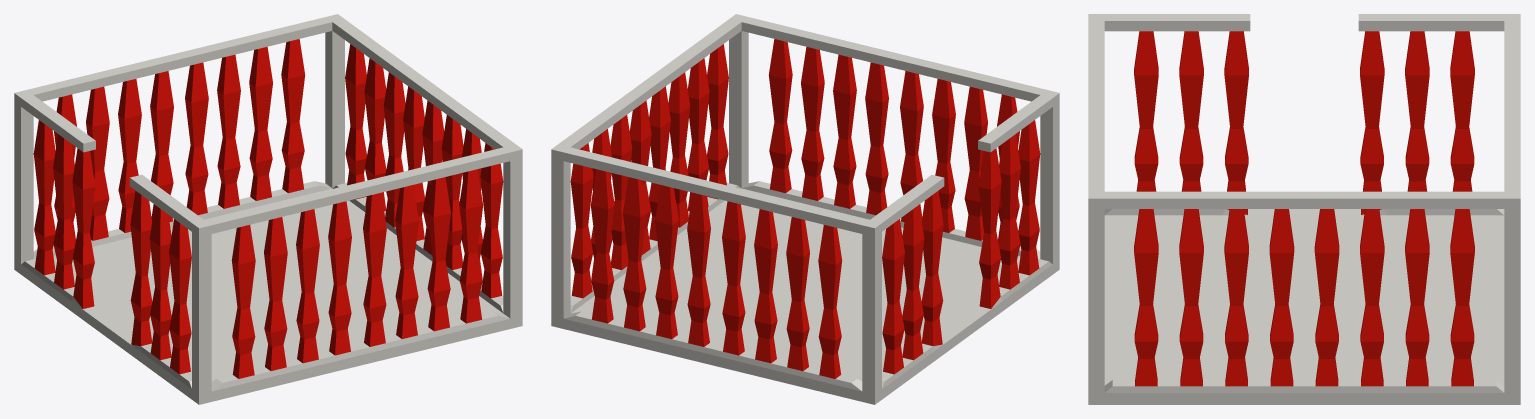
The model's file is Levitation_state.fbx.
3 renders of one model, left to right at view 1: azimuth 30°, elevation 25°; view 2: azimuth 150°, elevation 25°; view 3: azimuth 270°, elevation 25°, orthographic. The views are drawn at different scales.
Parts seen in each view (by area): view 1: Plane.002, Plane.005, Plane, Plane.003, Plane.001, Plane.004, Plane.006, Plane.007, Plane.010, Plane.009, Plane.008; view 2: Plane.005, Plane.002, Plane, Plane.003, Plane.004, Plane.001, Plane.007, Plane.006, Plane.010, Plane.008, Plane.009; view 3: Plane, Plane.003, Plane.004, Plane.001, Plane.002, Plane.005, Plane.010, Plane.008, Plane.009.
Boxes of the visible parts, x1=… form: Plane.002: x1=192, y1=144, x2=522, y2=394; Plane.005: x1=14, y1=14, x2=344, y2=263; Plane: x1=14, y1=188, x2=522, y2=404; Plane.003: x1=332, y1=19, x2=515, y2=298; Plane.001: x1=21, y1=95, x2=95, y2=308; Plane.004: x1=129, y1=174, x2=203, y2=374; Plane.006: x1=211, y1=311, x2=509, y2=391; Plane.007: x1=33, y1=181, x2=331, y2=258; Plane.010: x1=332, y1=183, x2=503, y2=312; Plane.009: x1=131, y1=343, x2=191, y2=388; Plane.008: x1=21, y1=258, x2=82, y2=308; Plane.005: x1=551, y1=144, x2=881, y2=394; Plane.002: x1=729, y1=14, x2=1059, y2=263; Plane: x1=551, y1=188, x2=1059, y2=404; Plane.003: x1=558, y1=19, x2=741, y2=298; Plane.004: x1=978, y1=95, x2=1052, y2=308; Plane.001: x1=870, y1=174, x2=944, y2=374; Plane.007: x1=564, y1=311, x2=862, y2=391; Plane.006: x1=742, y1=181, x2=1040, y2=258; Plane.010: x1=570, y1=183, x2=741, y2=312; Plane.008: x1=882, y1=343, x2=942, y2=388; Plane.009: x1=991, y1=258, x2=1052, y2=308; Plane: x1=1088, y1=209, x2=1520, y2=404; Plane.003: x1=1104, y1=191, x2=1504, y2=386; Plane.004: x1=1104, y1=14, x2=1250, y2=214; Plane.001: x1=1358, y1=14, x2=1504, y2=214; Plane.002: x1=1088, y1=14, x2=1104, y2=392; Plane.005: x1=1504, y1=14, x2=1520, y2=392; Plane.010: x1=1104, y1=380, x2=1504, y2=392; Plane.008: x1=1361, y1=209, x2=1504, y2=215; Plane.009: x1=1104, y1=209, x2=1246, y2=215.
Size of the model in its own units: 192 by 100 by 190.
